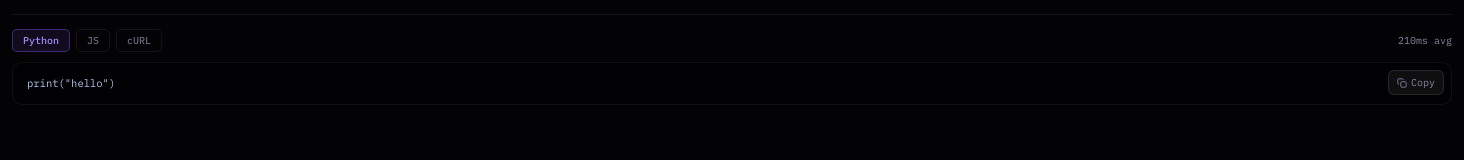
Test case: CodeSnippet › switches to JavaScript when JS tab is clicked
Click the button "JS": coordinates (93, 40) top-left (76, 29), bottom-right (110, 52)
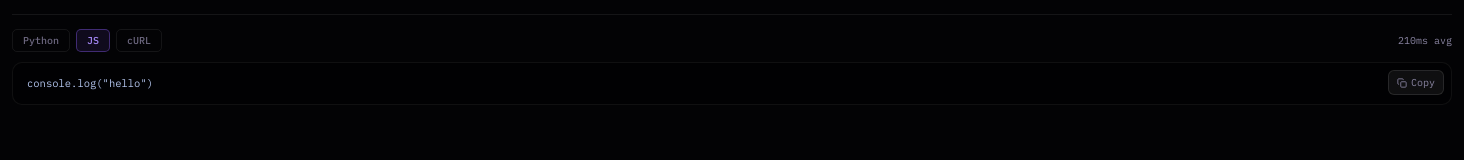
Now the text "console.log(\"hello\")" is shown, box top-left (12, 62), bottom-right (1452, 105)
